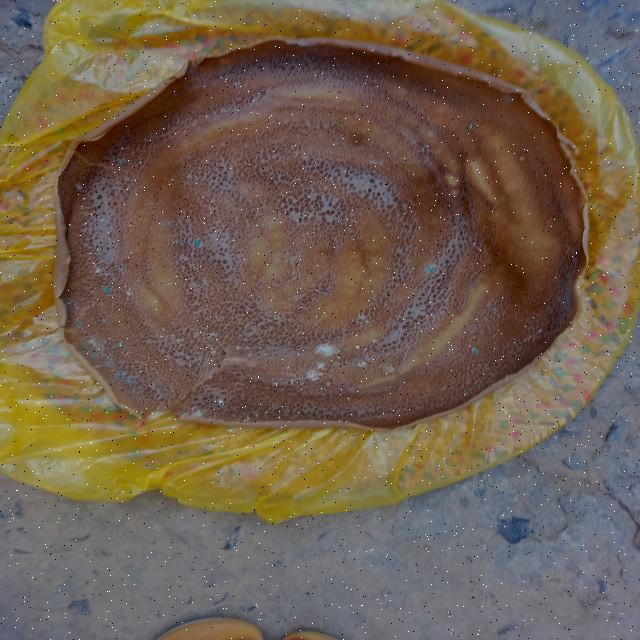injera_mold: (270, 363, 340, 388), (76, 332, 108, 354), (178, 404, 210, 420), (521, 330, 552, 344), (312, 344, 342, 358), (349, 313, 375, 329), (111, 372, 138, 384), (193, 331, 220, 343), (164, 333, 184, 345), (242, 411, 260, 422), (71, 182, 86, 192), (113, 341, 129, 349), (470, 346, 482, 356), (116, 158, 130, 166), (424, 266, 440, 273), (104, 360, 116, 368), (215, 398, 226, 406), (73, 321, 84, 329), (357, 360, 369, 367), (518, 155, 528, 163), (102, 286, 112, 294), (192, 239, 203, 246), (93, 267, 103, 274), (125, 290, 132, 299), (372, 338, 379, 344), (468, 124, 475, 130), (135, 278, 142, 284), (164, 221, 171, 227), (175, 240, 184, 244), (354, 345, 361, 350), (91, 354, 99, 358), (119, 265, 126, 269)
